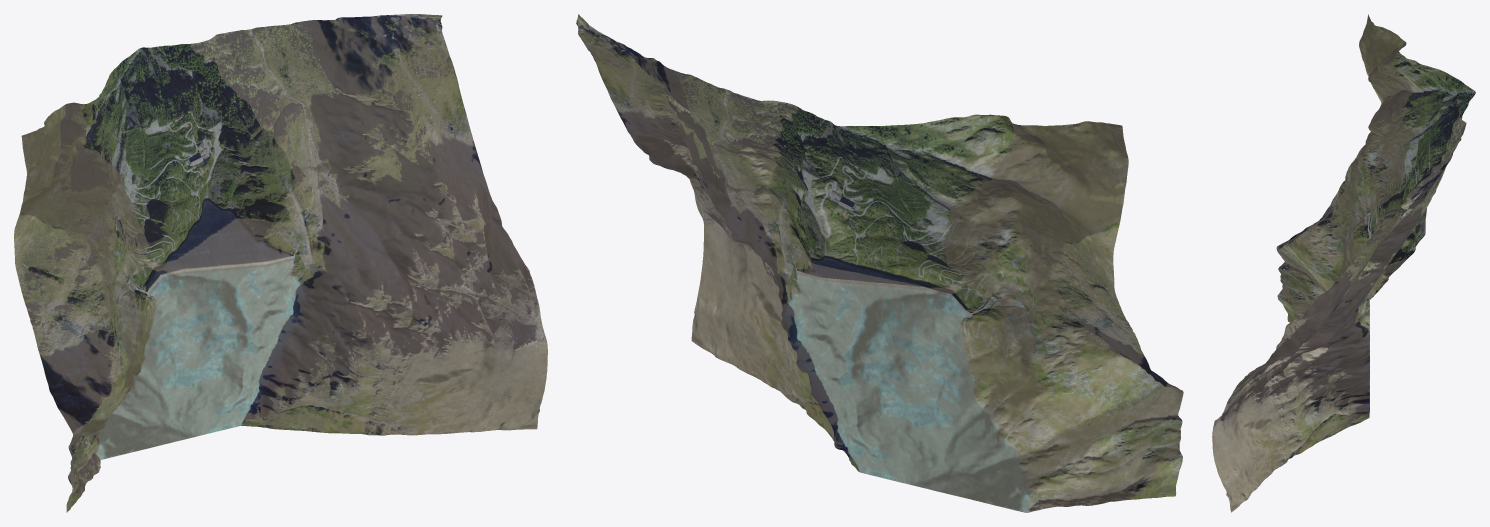
The model's file is dixence-t2.glb.
3 views of the same model, side by side, from view 1: azimuth 30°, elevation 25°; view 2: azimuth 150°, elevation 25°; view 3: azimuth 270°, elevation 25° (orthographic). The views are drawn at different scales.
Visible parts, largest first — view 1: RealTerrain; view 2: RealTerrain; view 3: RealTerrain.
Boxes of the visible parts, x1,y1,x2,y2 form: RealTerrain: (14,14,547,512); RealTerrain: (576,14,1183,512); RealTerrain: (1212,14,1475,512).
Bounding box in the file's own units: 2000 × 1500 × 1165.
Materials: 1 (1 with a texture image).
